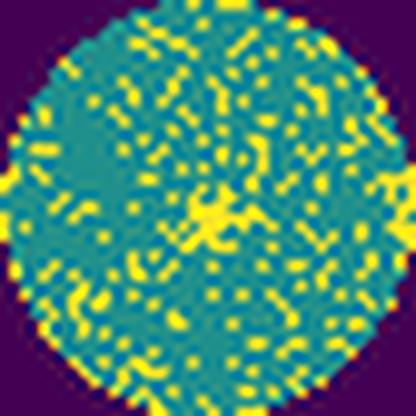Center: (153, 174, 283, 255)
